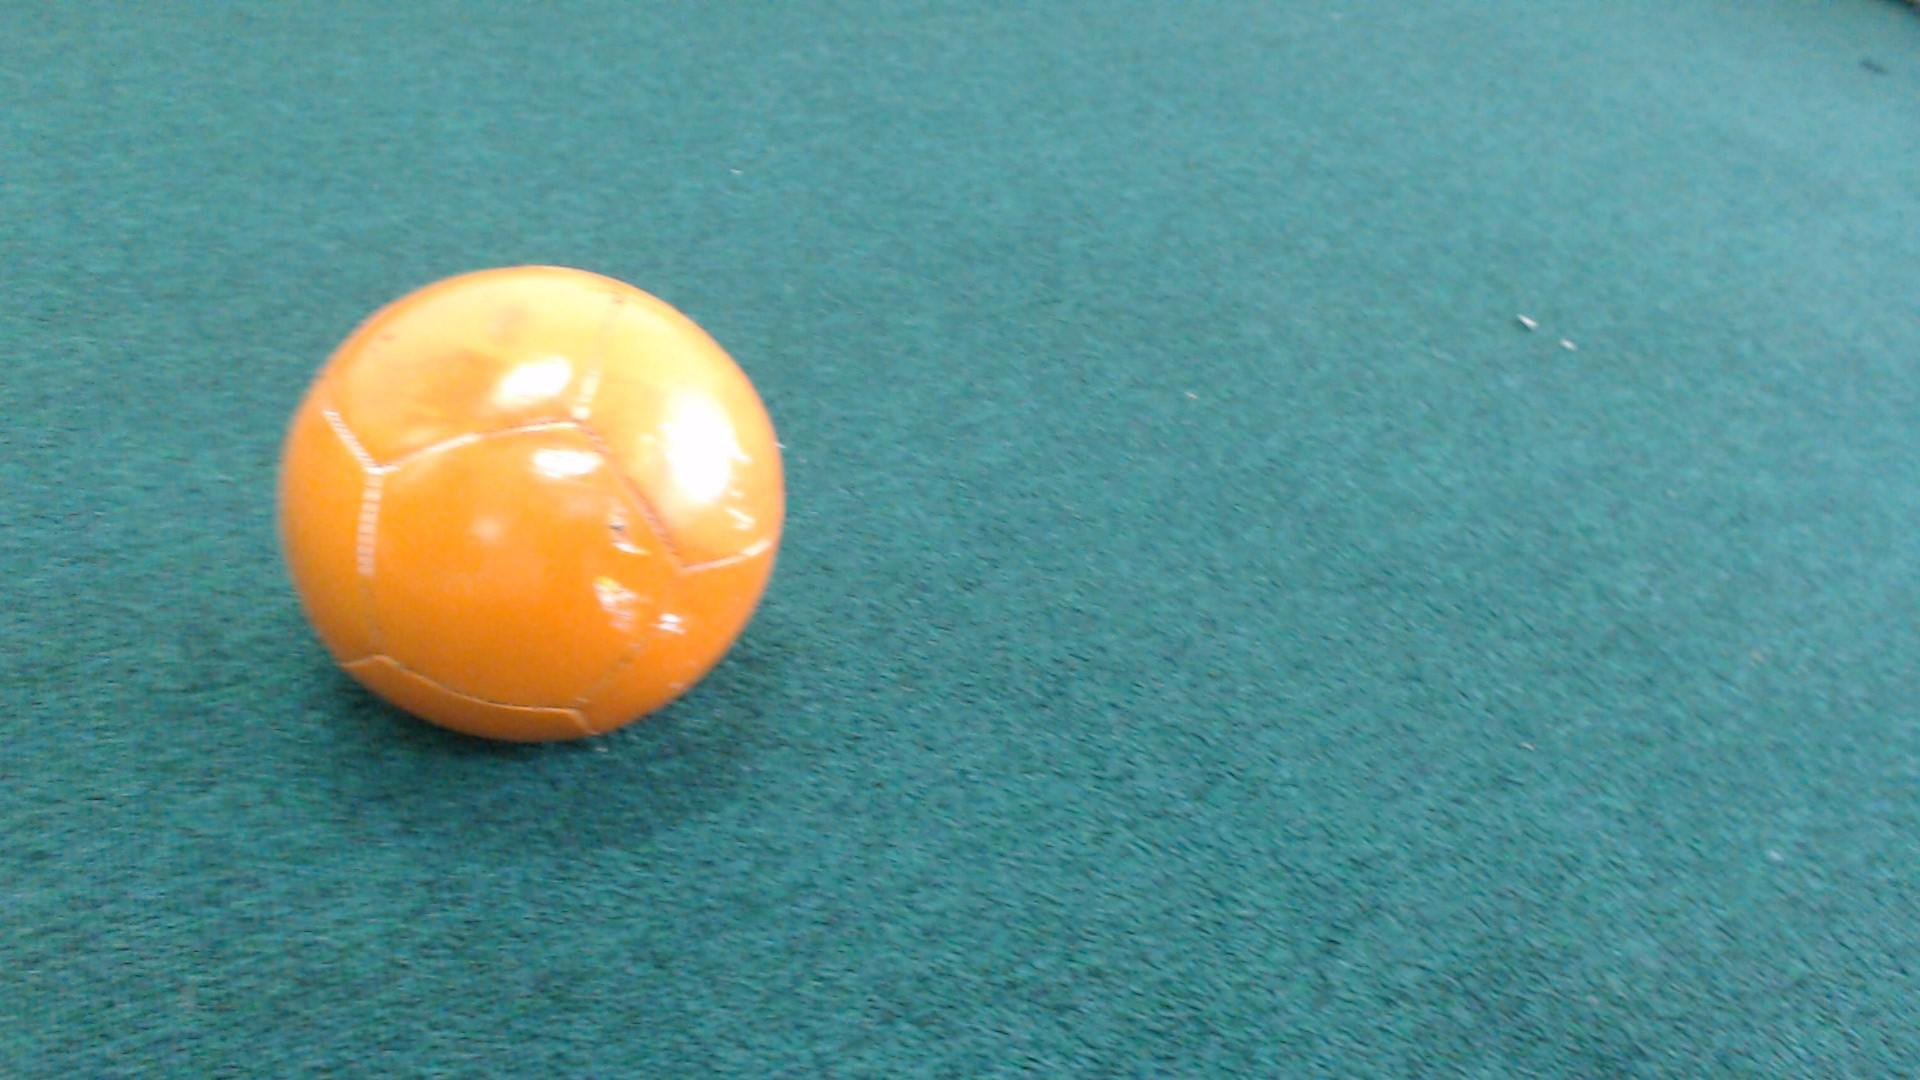bola: (261, 232, 816, 767)
